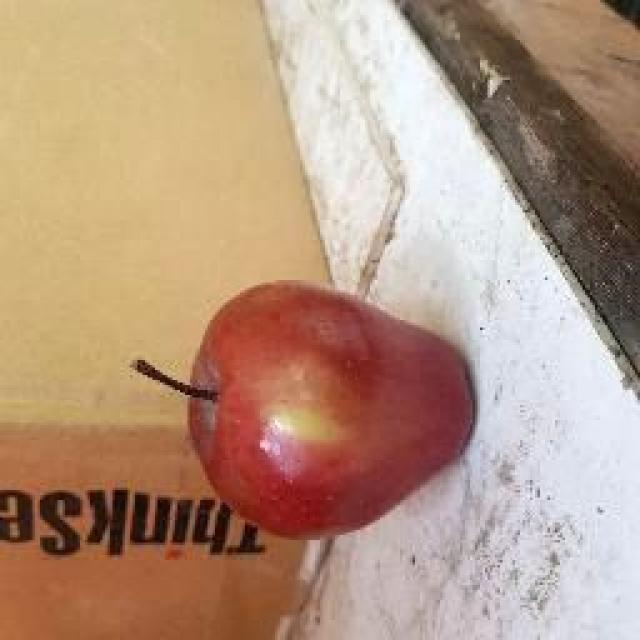Good_Apple: (132, 280, 478, 542)
